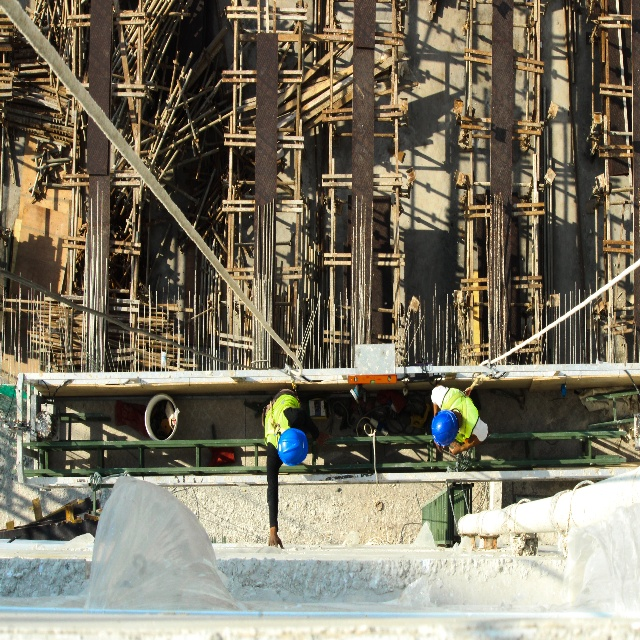Sin_guantes: (267, 529, 284, 548), (317, 430, 332, 446), (449, 440, 461, 454)
